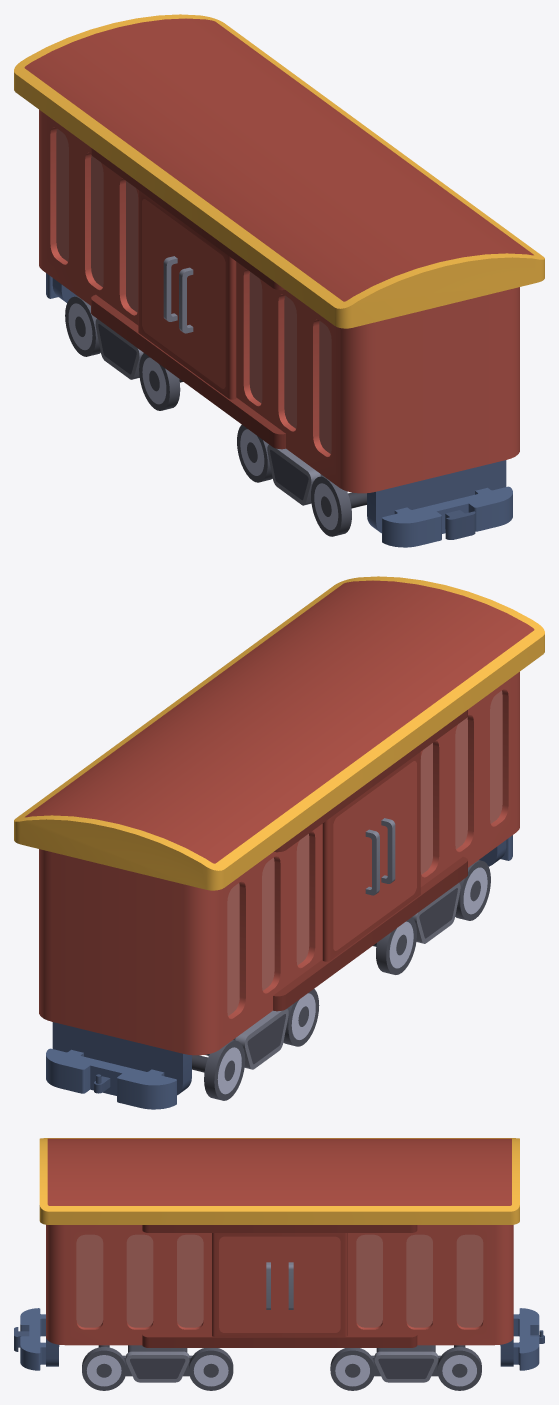
Rendered from Wagon Covered.fbx.
3 views of the same model, one above another, from view 1: azimuth 30°, elevation 25°; view 2: azimuth 150°, elevation 25°; view 3: azimuth 270°, elevation 25° (orthographic). The views are drawn at different scales.
Visible parts, largest first — view 1: Wagon Covered, Wagon Covered Door.003, Wagon Covered Door.002, Wagon Covered Wheel.004, Wagon Covered Wheel.001, Wagon Covered Wheel.002, Wagon Covered Wheel.003, Wagon Covered Wheel, Wagon Covered Wheel.005; view 2: Wagon Covered, Wagon Covered Door.002, Wagon Covered Door.003, Wagon Covered Wheel.003, Wagon Covered Wheel, Wagon Covered Wheel.005, Wagon Covered Wheel.001, Wagon Covered Wheel.004, Wagon Covered Wheel.002; view 3: Wagon Covered, Wagon Covered Door, Wagon Covered Door.001, Wagon Covered Wheel, Wagon Covered Wheel.001, Wagon Covered Wheel.003, Wagon Covered Wheel.004, Wagon Covered Wheel.002, Wagon Covered Wheel.005.
Boxes of the visible parts, x1,y1,x2,y2 form: Wagon Covered: (14,14,544,547); Wagon Covered Door.003: (179,223,236,399); Wagon Covered Door.002: (138,190,183,365); Wagon Covered Wheel.004: (311,476,366,536); Wagon Covered Wheel.001: (267,444,347,505); Wagon Covered Wheel.002: (139,353,183,410); Wagon Covered Wheel.003: (65,296,100,356); Wagon Covered Wheel: (95,319,143,379); Wagon Covered Wheel.005: (237,425,272,482); Wagon Covered: (14,576,544,1109); Wagon Covered Door.002: (322,785,379,961); Wagon Covered Door.003: (375,752,420,927); Wagon Covered Wheel.003: (192,1040,245,1100); Wagon Covered Wheel: (205,1009,288,1069); Wagon Covered Wheel.005: (373,917,416,974); Wagon Covered Wheel.001: (412,883,460,943); Wagon Covered Wheel.004: (455,860,490,920); Wagon Covered Wheel.002: (283,989,319,1046); Wagon Covered: (14,1138,544,1370); Wagon Covered Door: (280,1233,347,1336); Wagon Covered Door.001: (212,1233,279,1336); Wagon Covered Wheel: (371,1345,440,1382); Wagon Covered Wheel.001: (123,1345,192,1382); Wagon Covered Wheel.003: (437,1345,481,1390); Wagon Covered Wheel.004: (82,1345,126,1390); Wagon Covered Wheel.002: (330,1348,374,1390); Wagon Covered Wheel.005: (189,1348,233,1390).
Bounding box in the file's own units: 3.38 × 4.3 × 10.1.
